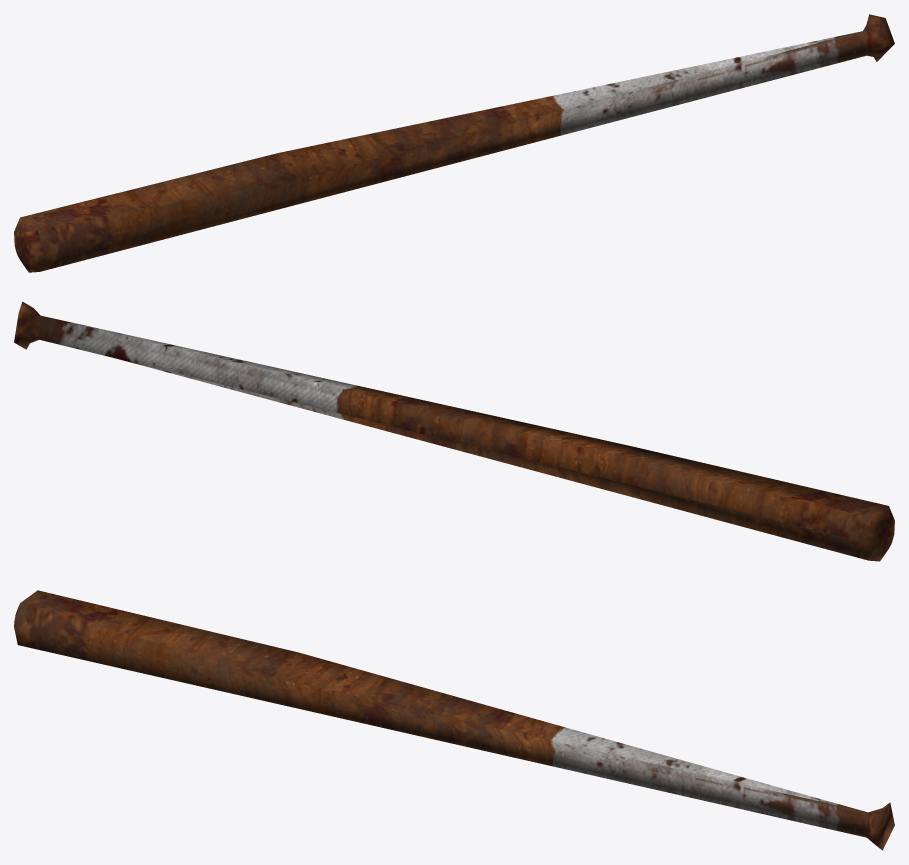
Rendered from Bate_low.obj.
The picture shows the model from 3 angles, top to bottom: view 1: azimuth 30°, elevation 25°; view 2: azimuth 150°, elevation 25°; view 3: azimuth 330°, elevation 25°; orthographic projection.
Parts seen in each view (by area): view 1: Bate_LowPoly; view 2: Bate_LowPoly; view 3: Bate_LowPoly.
Part boxes in pixels (left/top/right/bottom): Bate_LowPoly: left=14, top=14, right=894, bottom=272; Bate_LowPoly: left=14, top=301, right=894, bottom=561; Bate_LowPoly: left=14, top=590, right=894, bottom=850.
Size of the model in its own units: 5.33 by 0.2958 by 0.3184.
Materials: 1 (1 with a texture image).
